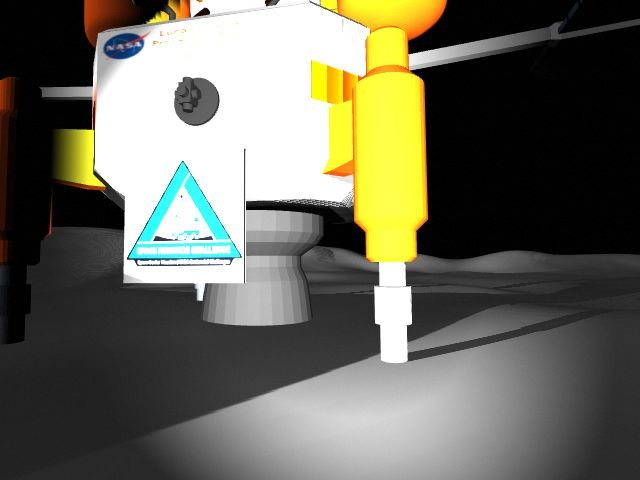basemarker: (127, 159, 244, 270)
